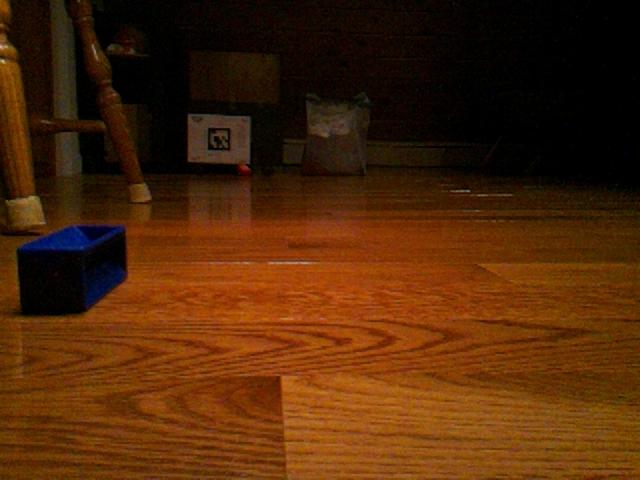blue: (16, 222, 130, 317)
